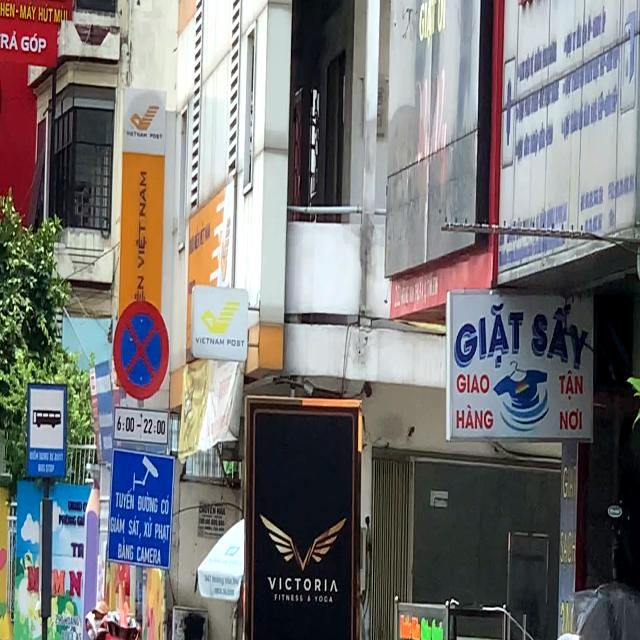P.130: (113, 299, 169, 400)
R.434: (26, 384, 66, 478)
